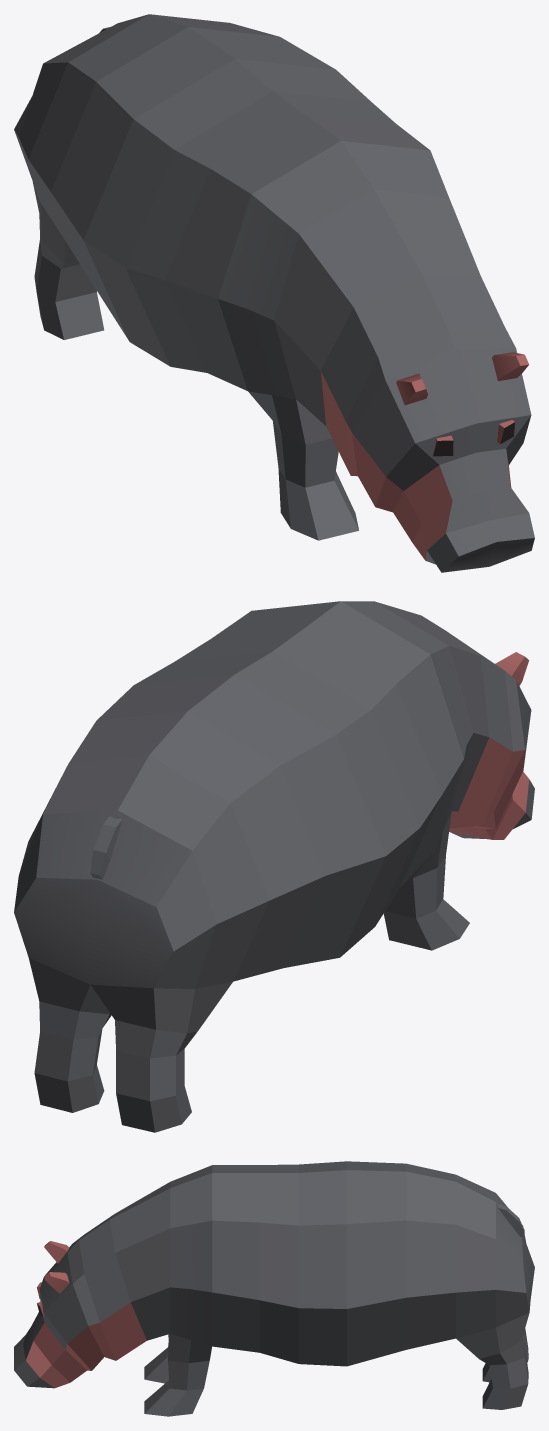
The model's file is a80e9d35-cc7a-438e-bc54-79fce3ad6531.glb.
3 renders of one model, top to bottom at view 1: azimuth 30°, elevation 25°; view 2: azimuth 150°, elevation 25°; view 3: azimuth 270°, elevation 25°, orthographic. The views are drawn at different scales.
Visible parts, largest first — view 1: Geo_Hippopotamus; view 2: Geo_Hippopotamus; view 3: Geo_Hippopotamus.
Boxes of the visible parts, x1,y1,x2,y2 form: Geo_Hippopotamus: (14, 14, 534, 572); Geo_Hippopotamus: (14, 601, 534, 1132); Geo_Hippopotamus: (14, 1161, 534, 1416).
Bounding box in the file's own units: 101 × 111 × 238.
1 material, 1 textured.
